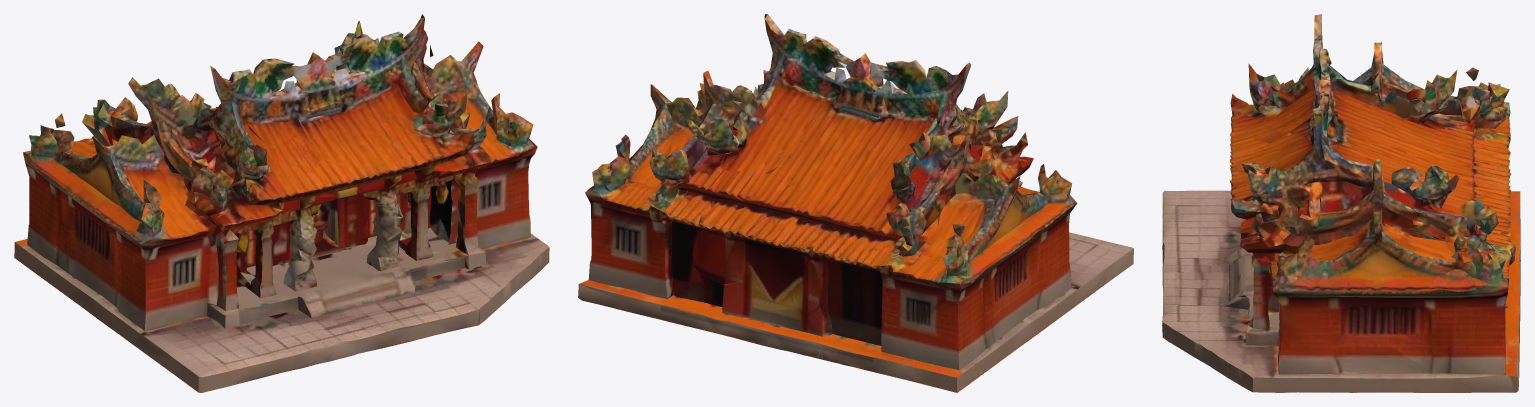
Rendered from dalongdong-baoan-temple.glb.
3 renders of one model, left to right at view 1: azimuth 30°, elevation 25°; view 2: azimuth 150°, elevation 25°; view 3: azimuth 270°, elevation 25°, orthographic. The views are drawn at different scales.
Visible parts, largest first — view 1: logan-textured.obj; view 2: logan-textured.obj; view 3: logan-textured.obj.
Boxes of the visible parts, bbox=[...] form: logan-textured.obj: bbox=[14, 14, 549, 392]; logan-textured.obj: bbox=[578, 14, 1133, 392]; logan-textured.obj: bbox=[1162, 14, 1520, 392].
Size of the model in its own units: 1 by 0.5882 by 0.808.
1 material, 1 textured.
